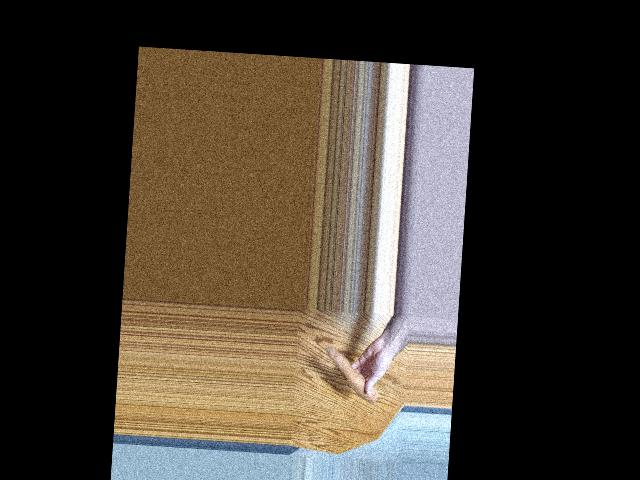sweet_potato: (324, 347, 381, 401)
